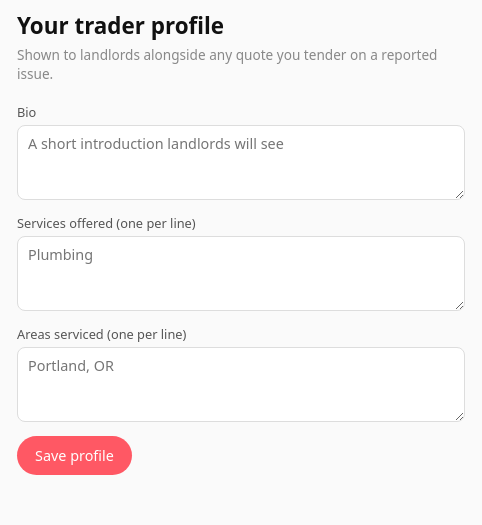
Test: TraderProfilePage › shows a confirmation after saving
Click the button "Save profile" at x=74, y=456, box x1=17 y1=436 x2=132 y2=475
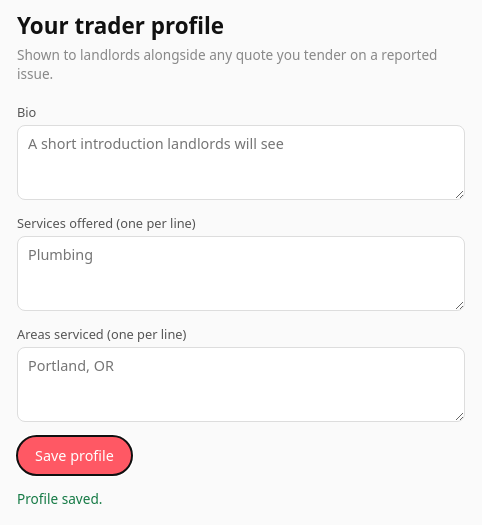
Expected: the message shows "Profile saved", x1=17 y1=489 x2=102 y2=508
